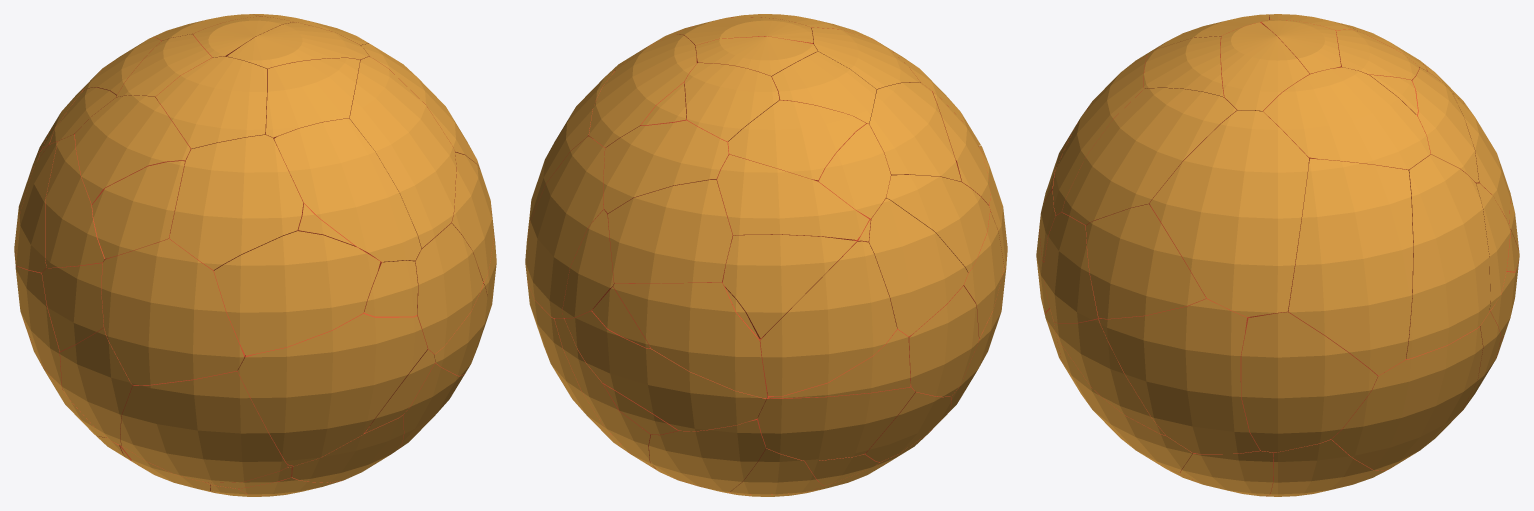
The model's file is cell.glb.
3 renders of one model, left to right at view 1: azimuth 30°, elevation 25°; view 2: azimuth 150°, elevation 25°; view 3: azimuth 270°, elevation 25°, orthographic.
Parts seen in each view (by area): view 1: Sphere_cell.031, Sphere_cell.009, Sphere_cell.054, Sphere_cell.004, Sphere_cell.049, Sphere_cell.039, Sphere_cell.093, Sphere_cell.005, Sphere_cell.092, Sphere_cell.029, Sphere_cell.056, Sphere_cell.041 (+25 smaller); view 2: Sphere_cell.089, Sphere_cell.073, Sphere_cell.019, Sphere_cell, Sphere_cell.051, Sphere_cell.077, Sphere_cell.028, Sphere_cell.074, Sphere_cell.060, Sphere_cell.021, Sphere_cell.022, Sphere_cell.092 (+28 smaller); view 3: Sphere_cell.026, Sphere_cell.082, Sphere_cell.067, Sphere_cell.013, Sphere_cell.077, Sphere_cell.093, Sphere_cell.035, Sphere_cell.090, Sphere_cell.094, Sphere_cell.050, Sphere_cell.056, Sphere_cell.078 (+16 smaller).
Boxes of the visible parts, <box> form: Sphere_cell.031: <box>237,312,427,465</box>; Sphere_cell.009: <box>101,234,244,385</box>; Sphere_cell.054: <box>214,231,381,355</box>; Sphere_cell.004: <box>120,370,287,482</box>; Sphere_cell.049: <box>169,134,303,270</box>; Sphere_cell.039: <box>274,118,421,262</box>; Sphere_cell.093: <box>349,56,456,248</box>; Sphere_cell.005: <box>156,56,266,149</box>; Sphere_cell.092: <box>75,95,190,233</box>; Sphere_cell.029: <box>92,161,184,258</box>; Sphere_cell.056: <box>415,223,483,354</box>; Sphere_cell.041: <box>265,58,359,146</box>; Sphere_cell.089: <box>760,241,896,396</box>; Sphere_cell.073: <box>608,180,733,283</box>; Sphere_cell.019: <box>613,282,767,398</box>; Sphere_cell: <box>564,309,766,431</box>; Sphere_cell.051: <box>717,154,869,240</box>; Sphere_cell.077: <box>525,136,605,318</box>; Sphere_cell.028: <box>757,384,915,460</box>; Sphere_cell.074: <box>869,198,967,336</box>; Sphere_cell.060: <box>722,234,856,338</box>; Sphere_cell.021: <box>603,118,730,218</box>; Sphere_cell.022: <box>728,100,866,181</box>; Sphere_cell.092: <box>869,82,961,181</box>; Sphere_cell.026: <box>1149,110,1309,317</box>; Sphere_cell.082: <box>1288,158,1413,375</box>; Sphere_cell.067: <box>1098,296,1260,453</box>; Sphere_cell.013: <box>1241,312,1377,452</box>; Sphere_cell.077: <box>1406,154,1490,359</box>; Sphere_cell.093: <box>1062,88,1236,225</box>; Sphere_cell.035: <box>1263,67,1430,169</box>; Sphere_cell.090: <box>1331,326,1482,470</box>; Sphere_cell.094: <box>1086,204,1205,318</box>; Sphere_cell.050: <box>1220,22,1309,111</box>; Sphere_cell.056: <box>1044,212,1098,322</box>; Sphere_cell.078: <box>1054,318,1165,435</box>.
Size of the model in its own units: 2 by 2 by 2.
